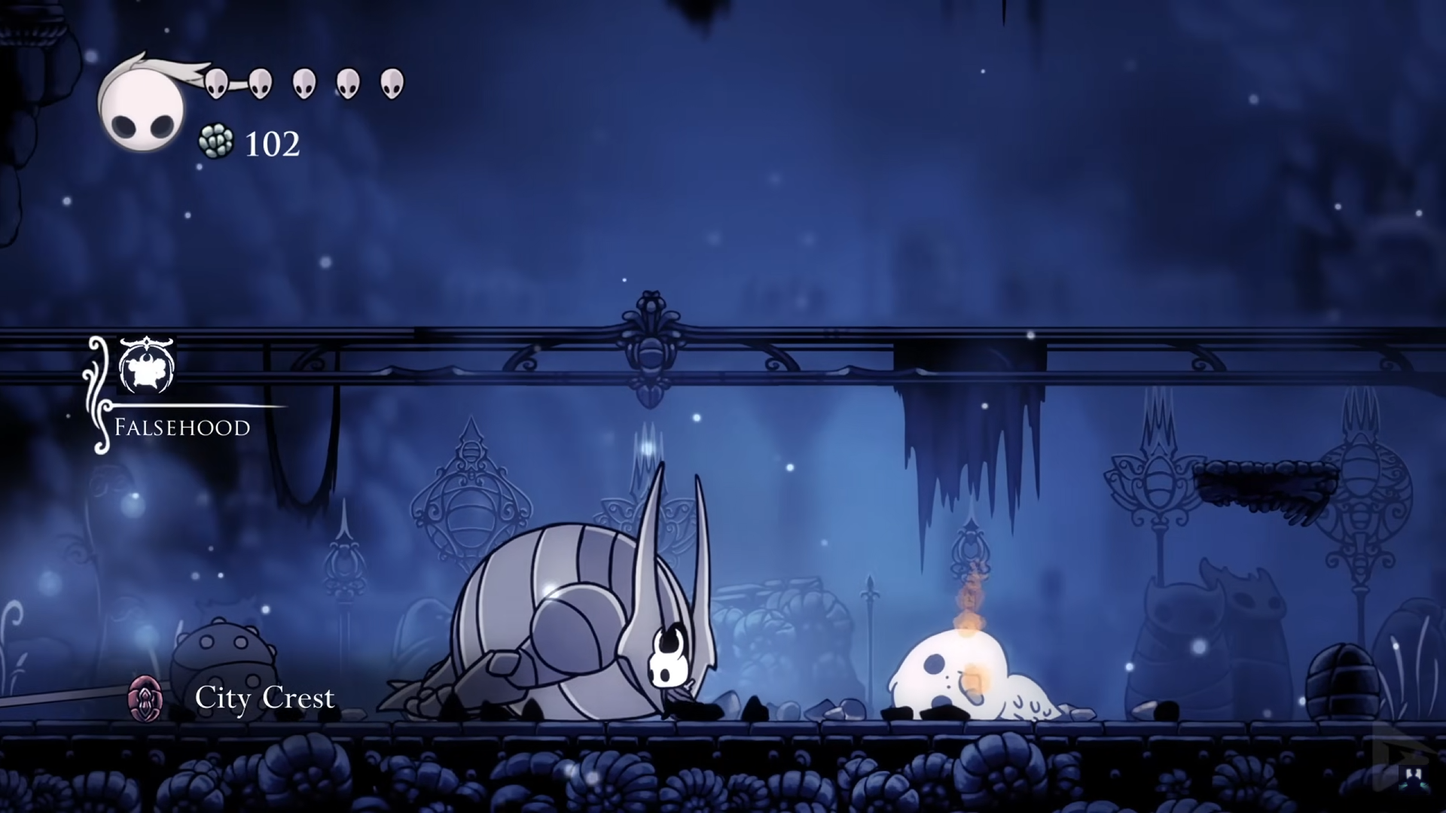HK: (639, 619, 706, 724)
